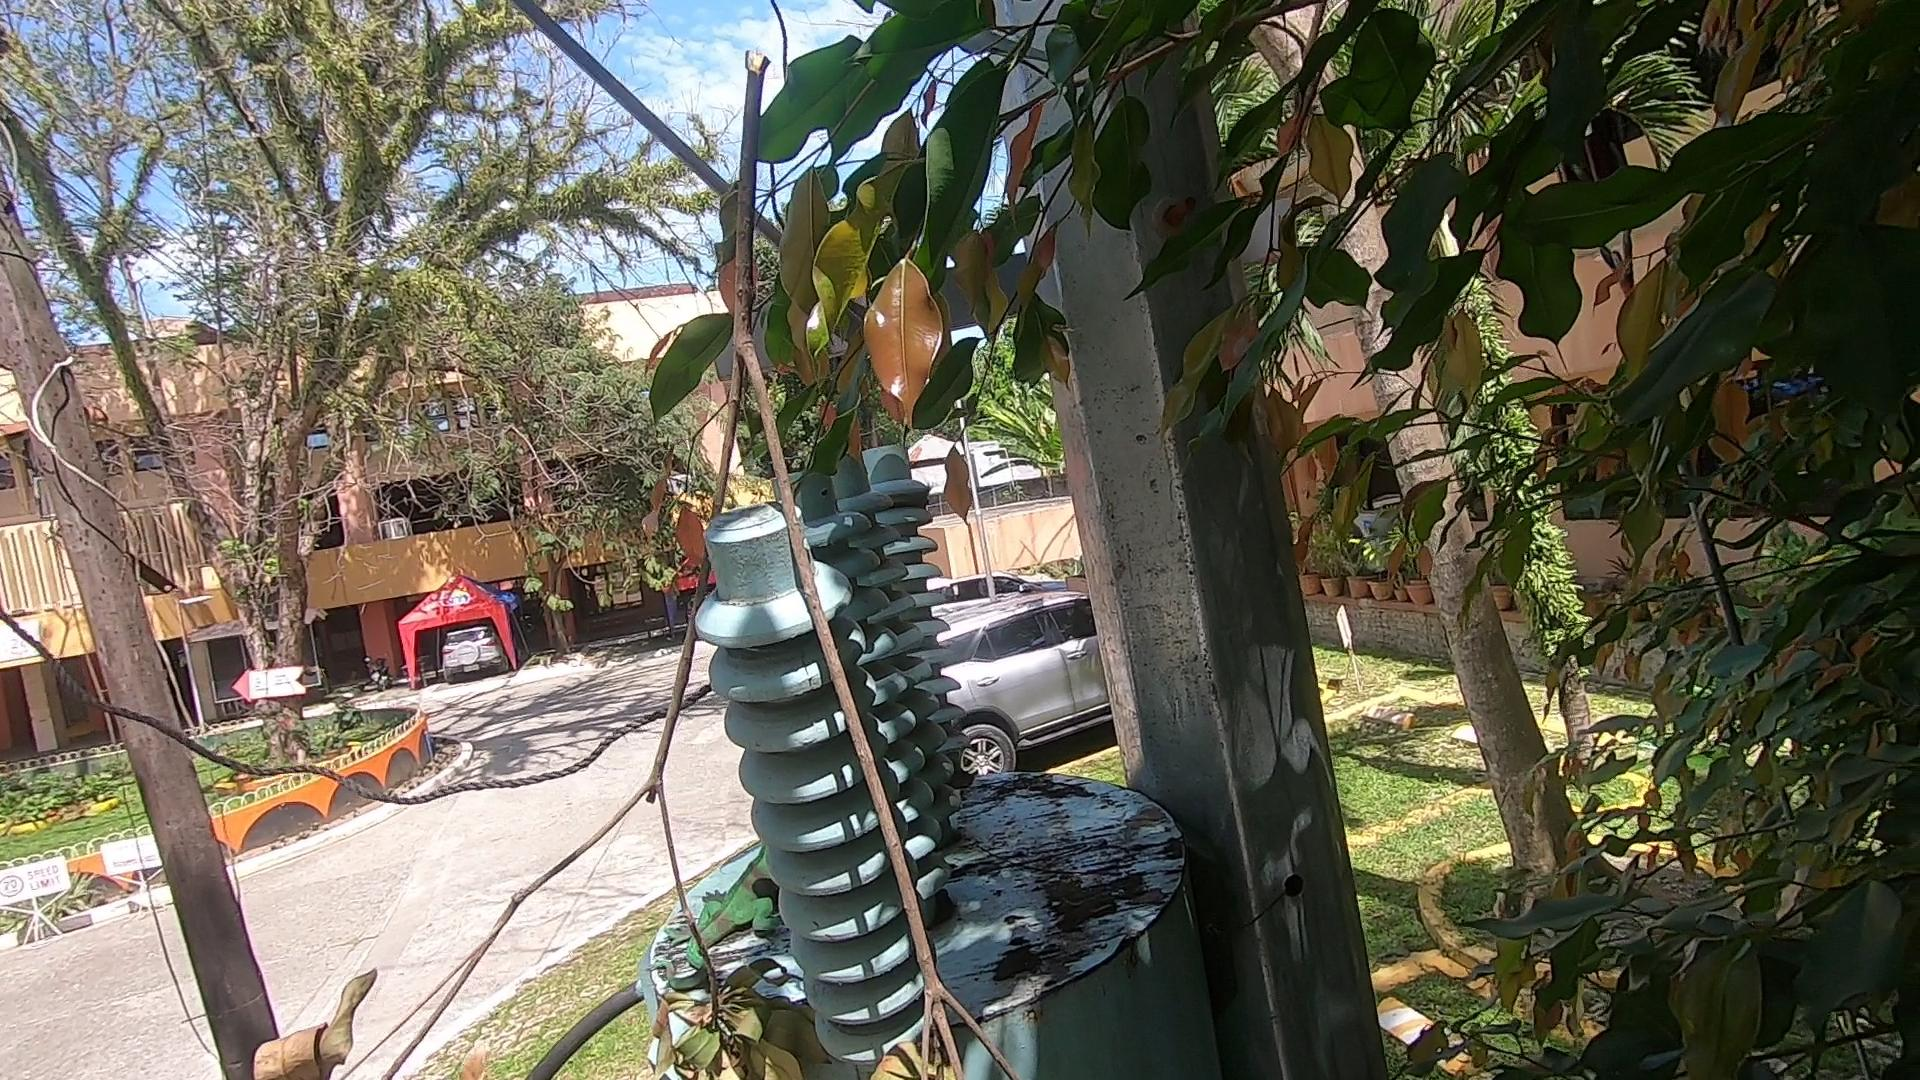branch with leaves: (244, 26, 1033, 1080)
leaf: (752, 880, 793, 899)
